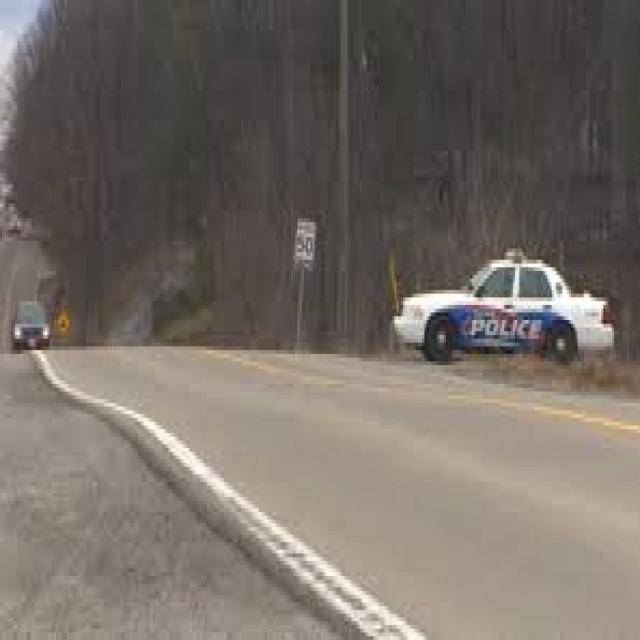cop: (389, 244, 621, 378)
